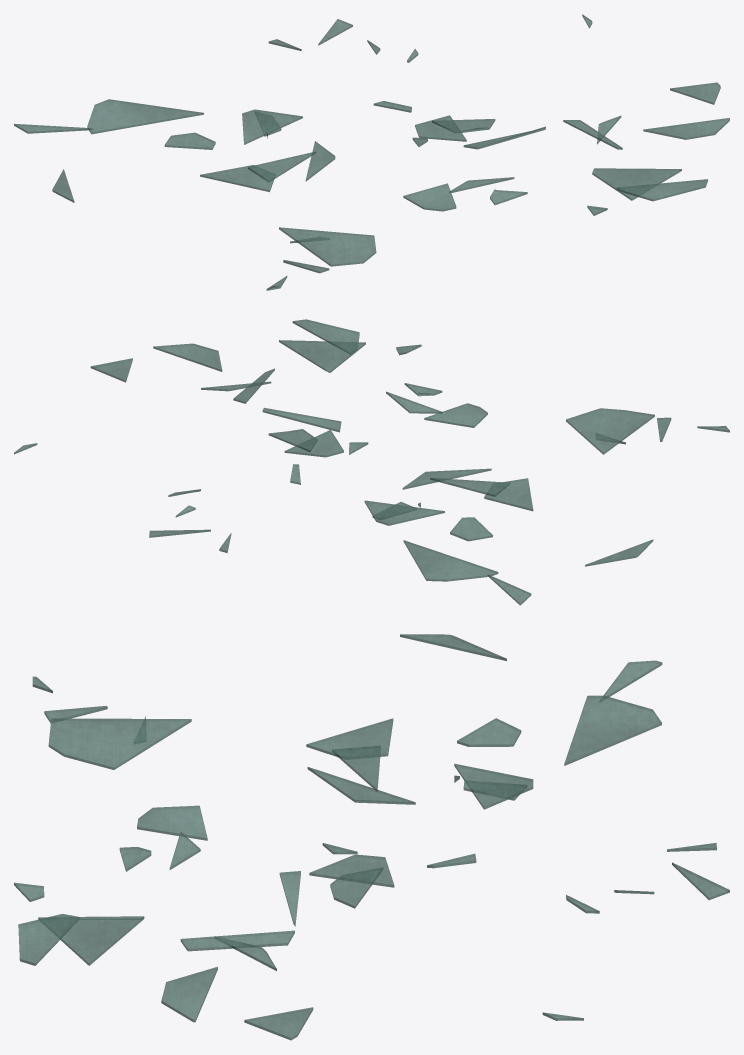
The model's file is Lab_GlassShards.fbx.
The picture shows the model from 3 angles, top to bottom: view 1: azimuth 30°, elevation 25°; view 2: azimuth 150°, elevation 25°; view 3: azimuth 270°, elevation 25°; orthographic projection. The views are drawn at different scales.
Parts seen in each view (by area): view 1: Lab_GlassShards_prop; view 2: Lab_GlassShards_prop; view 3: Lab_GlassShards_prop.
Boxes of the visible parts, bbox=[...] form: Lab_GlassShards_prop: bbox=[14, 14, 729, 290]; Lab_GlassShards_prop: bbox=[14, 319, 729, 605]; Lab_GlassShards_prop: bbox=[14, 634, 729, 1040].
Size of the model in its own units: 1.34 by 0.013 by 1.01.
1 material, 1 textured.
